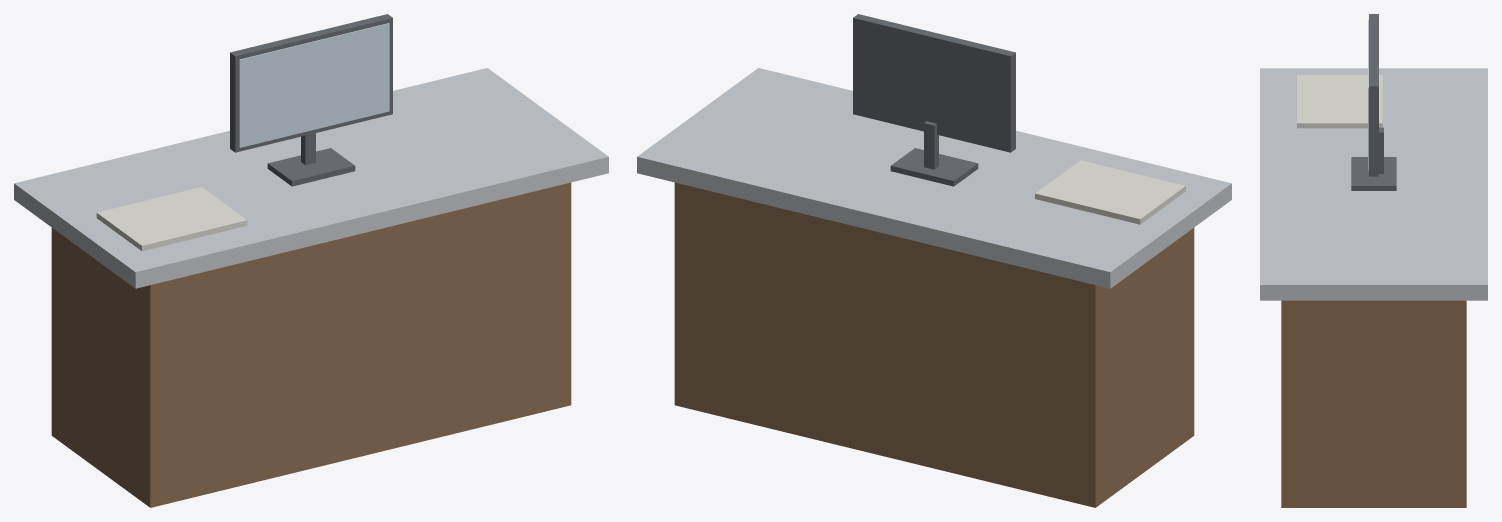
File: bank-vault-heist-kit-guard-station-399a861f__25113.glb
3 views of the same model, side by side, from view 1: azimuth 30°, elevation 25°; view 2: azimuth 150°, elevation 25°; view 3: azimuth 270°, elevation 25° (orthographic). The views are drawn at different scales.
Parts seen in each view (by area): view 1: guard-station; view 2: guard-station; view 3: guard-station.
Boxes of the visible parts, x1=… form: guard-station: x1=14, y1=14, x2=608, y2=507; guard-station: x1=637, y1=14, x2=1231, y2=507; guard-station: x1=1260, y1=14, x2=1487, y2=507.
Bounding box in the file's own units: 1.8 × 1.4 × 0.7999.
